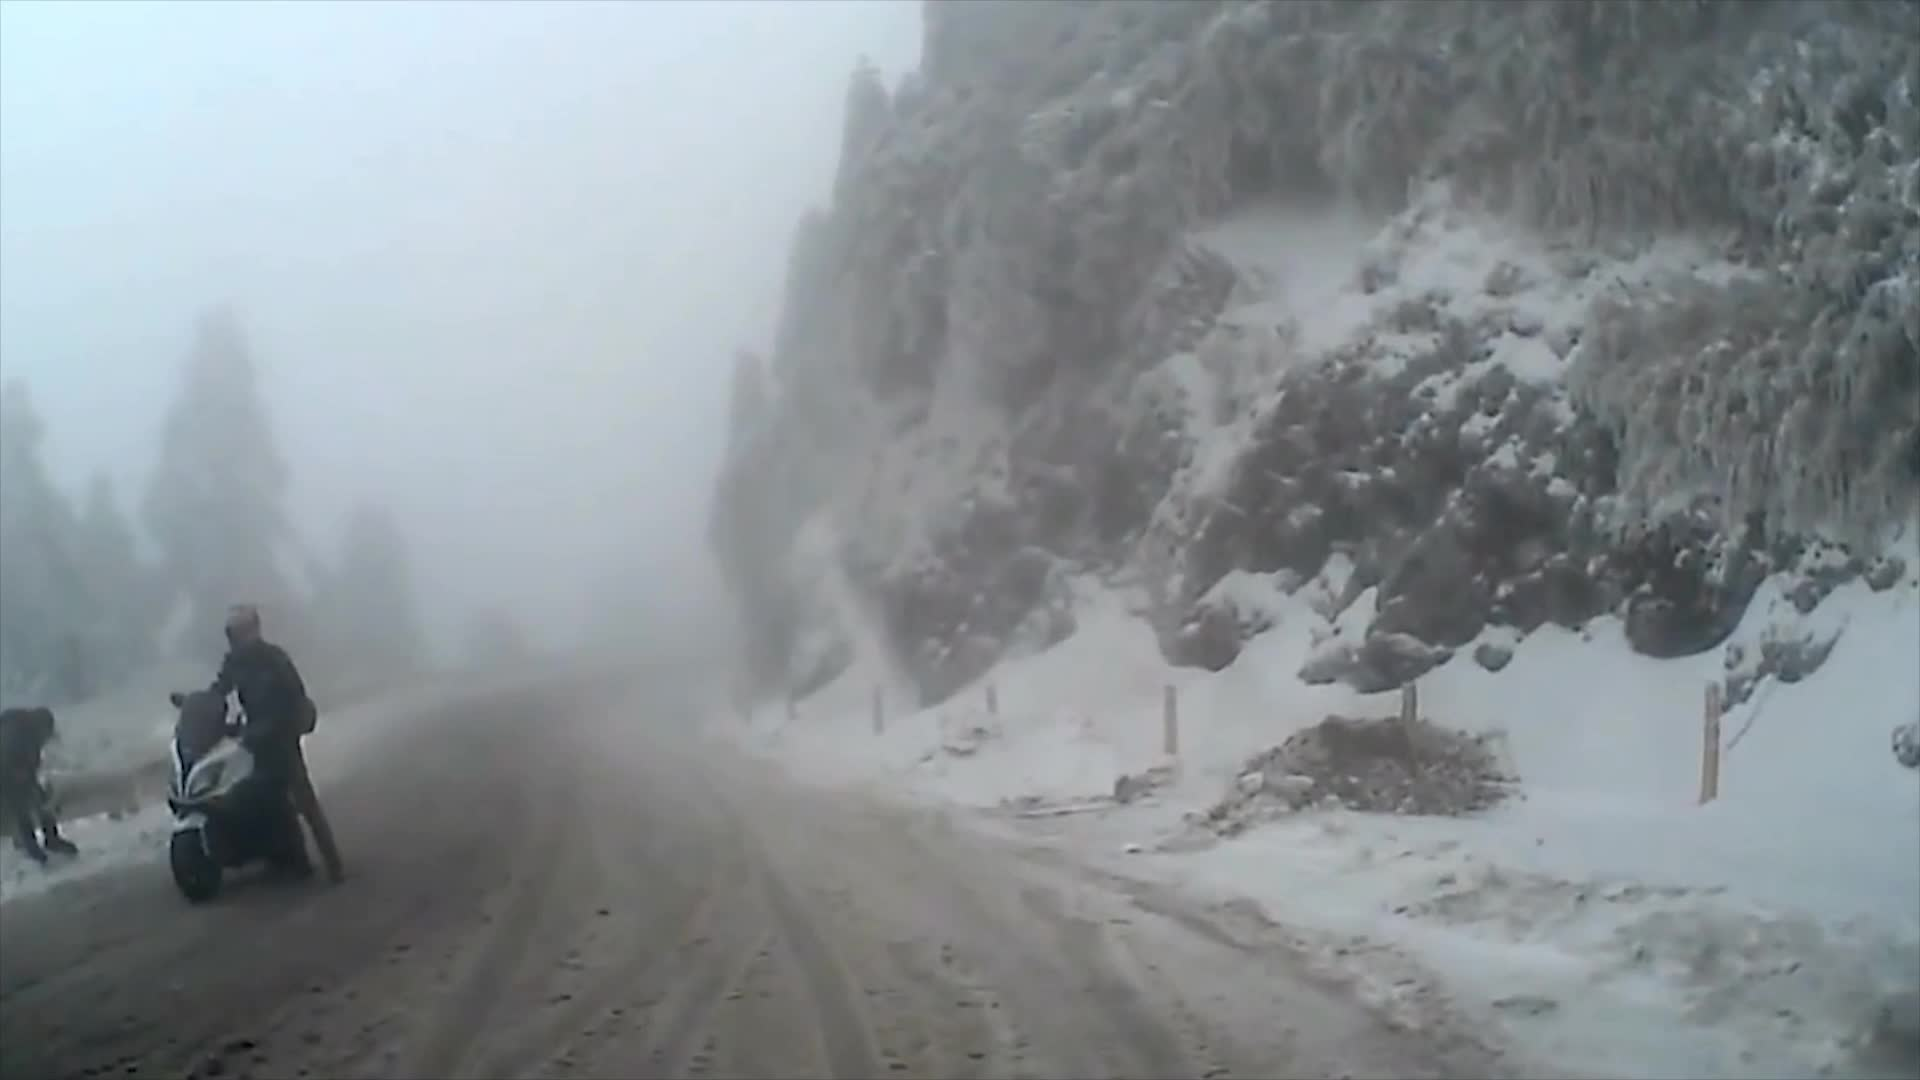pedestrian: (180, 589, 347, 888), (1, 711, 80, 875)
